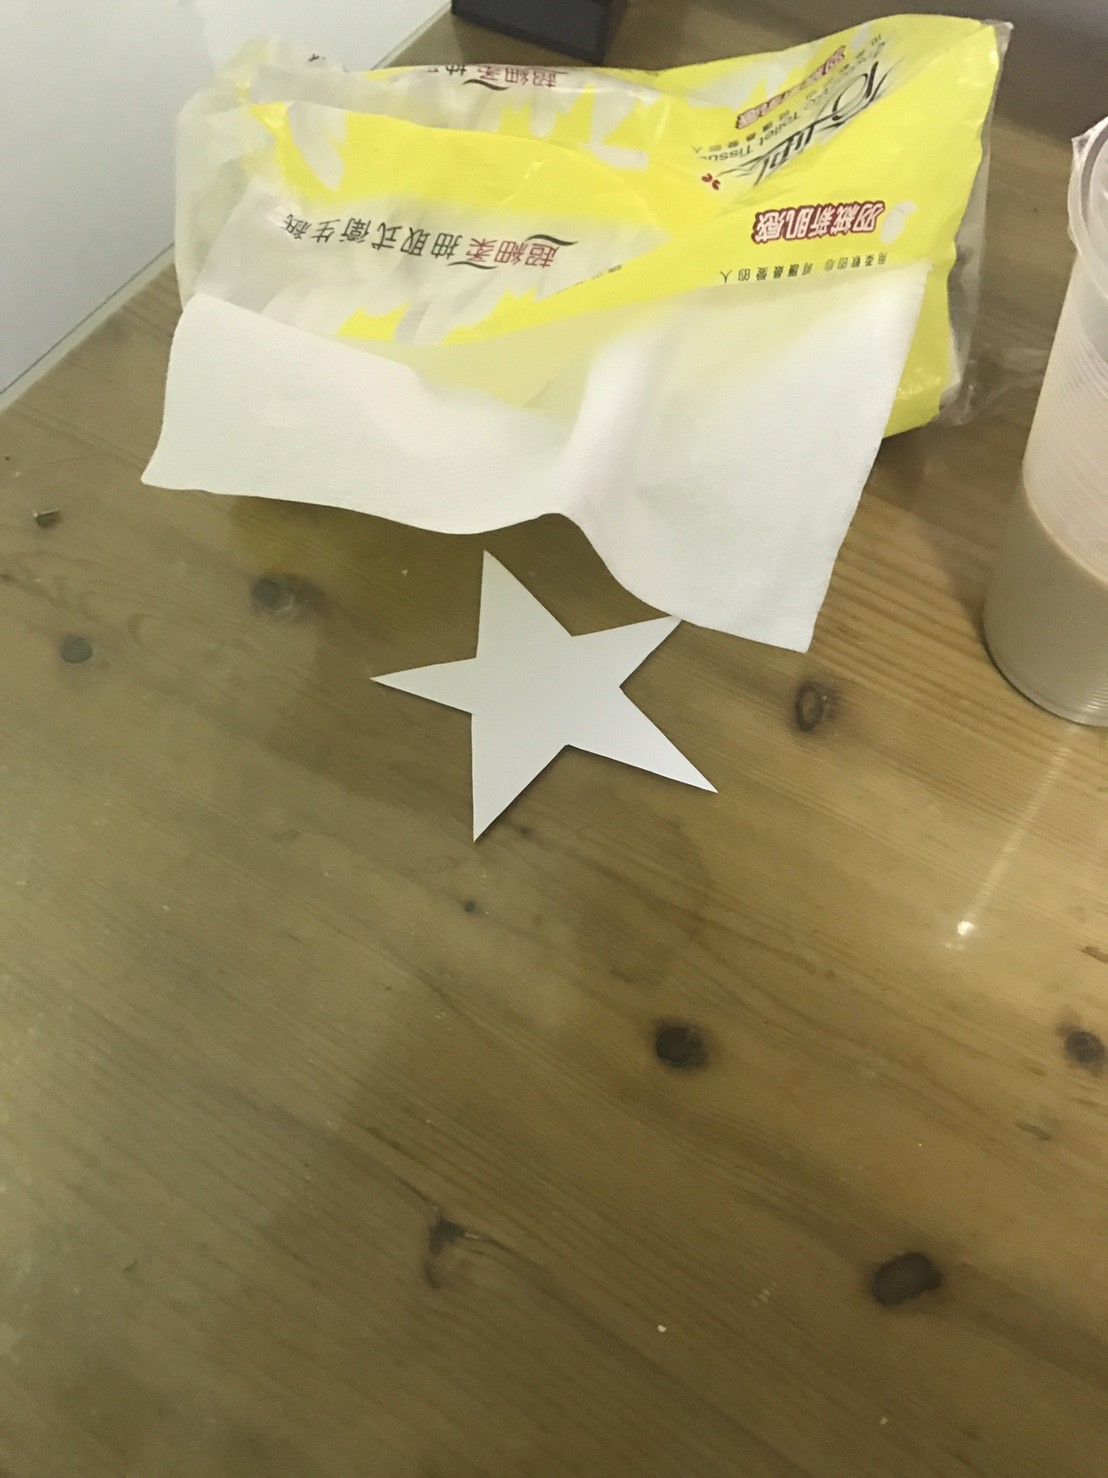star: (370, 493, 757, 857)
